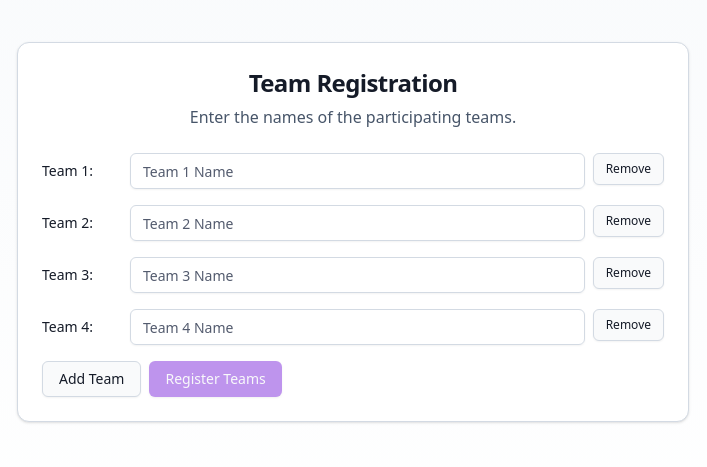
Scenario: TeamRegistration › allows removing teams when more than 2 exist
Add a team first
Click the button "Add Team" at (92, 379), box [42,361,142,397]
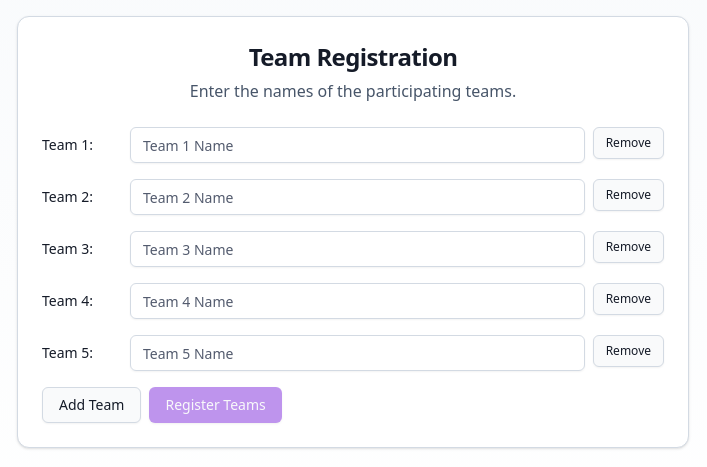
Expected: the 1st button "Remove" is shown, [593,127,664,159]
Click remove on the last team
Click the 5th button "Remove" at (628, 351), box [593,335,664,367]
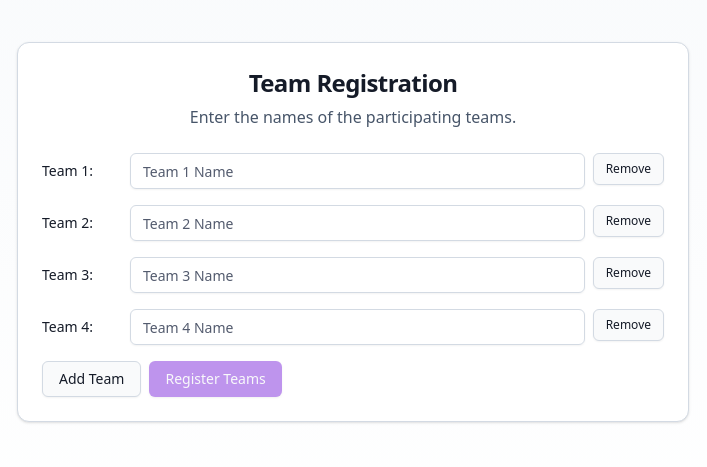
Now the text "Team 5:" is gone
